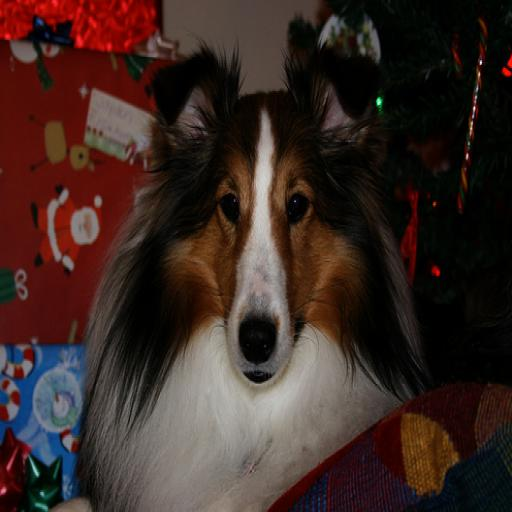dog_face: (145, 52, 386, 406)
